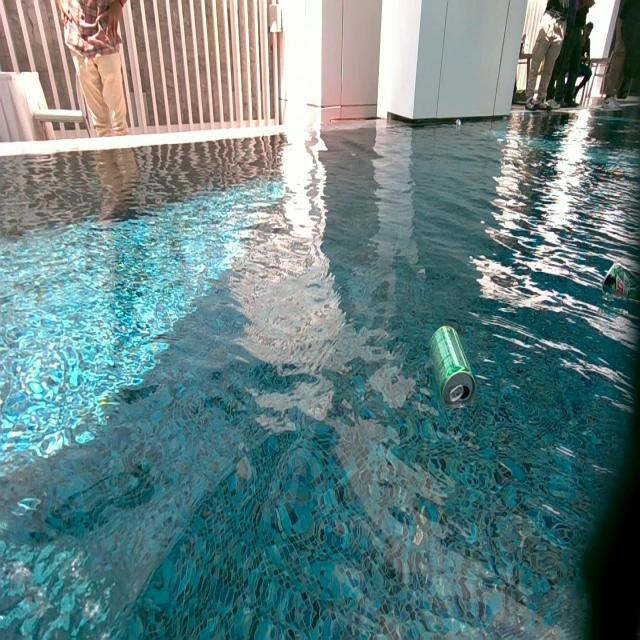Cans: (430, 323, 478, 409), (606, 264, 638, 299), (456, 118, 461, 125)
